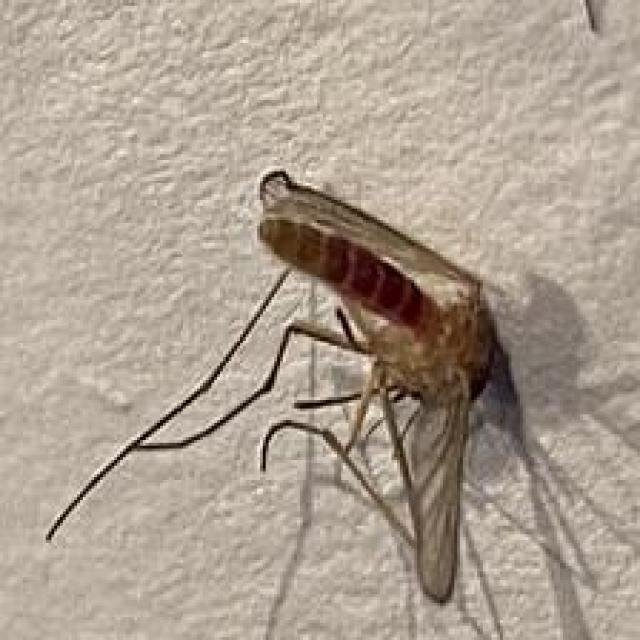Culex: (44, 165, 609, 640)
